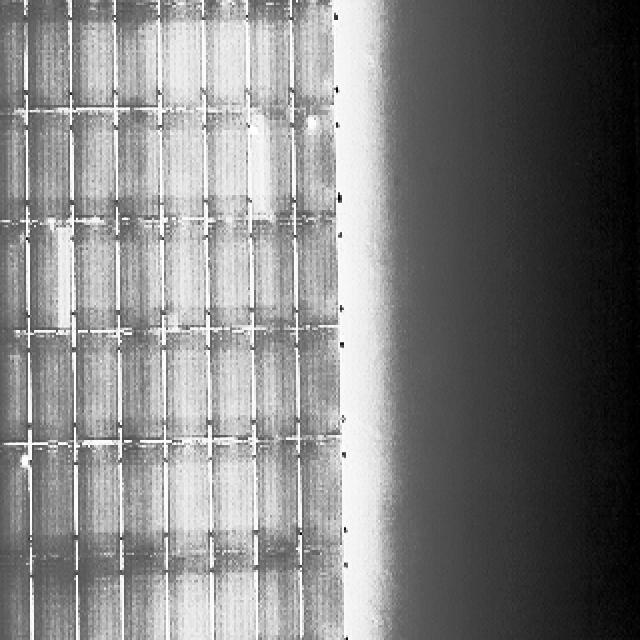Hotspots: (246, 116, 268, 140), (11, 445, 29, 470), (305, 117, 321, 133)
PV-modules: (298, 328, 347, 442), (69, 114, 118, 226), (249, 440, 296, 555), (72, 334, 120, 446), (119, 442, 166, 556), (71, 222, 119, 333), (74, 443, 120, 558), (32, 444, 78, 559), (163, 216, 210, 328), (248, 0, 294, 114), (166, 441, 212, 555), (209, 440, 255, 554), (298, 215, 345, 326), (202, 0, 248, 113), (26, 4, 74, 112), (31, 335, 77, 447), (288, 0, 334, 112), (204, 220, 250, 332), (298, 438, 342, 554), (113, 112, 158, 225), (204, 110, 250, 220), (166, 329, 212, 439), (30, 115, 75, 227), (253, 219, 298, 331), (248, 329, 293, 441), (118, 221, 163, 333), (207, 332, 252, 444), (116, 330, 162, 439), (295, 108, 341, 217), (30, 223, 75, 334), (162, 114, 207, 225), (114, 2, 160, 108), (160, 1, 204, 110), (248, 117, 291, 225), (70, 3, 114, 108), (209, 556, 257, 640), (298, 551, 343, 637), (168, 558, 215, 640), (73, 559, 120, 640), (118, 558, 163, 640), (252, 557, 296, 640), (0, 442, 30, 558), (33, 562, 77, 640), (0, 223, 28, 335), (0, 335, 28, 445), (0, 110, 26, 222), (0, 562, 36, 640), (0, 5, 24, 113), (26, 0, 72, 2), (0, 0, 24, 2)
